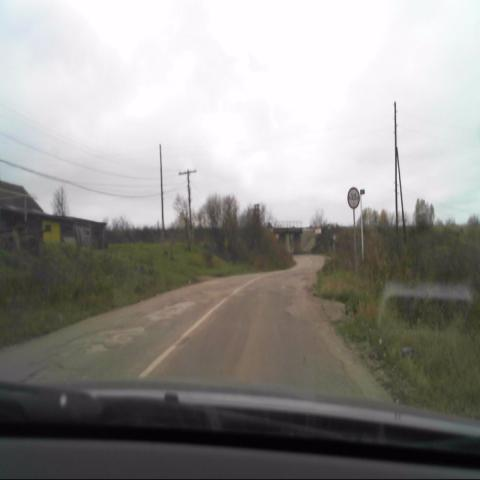3_14: (346, 187, 360, 209)
